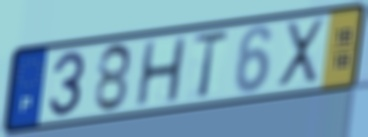3: (47, 48, 87, 120)
6: (231, 21, 276, 99)
8: (91, 41, 135, 116)
H: (132, 35, 189, 110)
T: (191, 28, 231, 102)
X: (274, 16, 327, 89)
